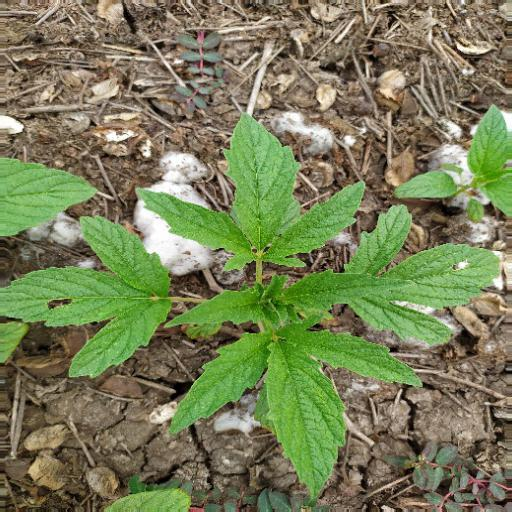crop: (20, 121, 483, 493)
